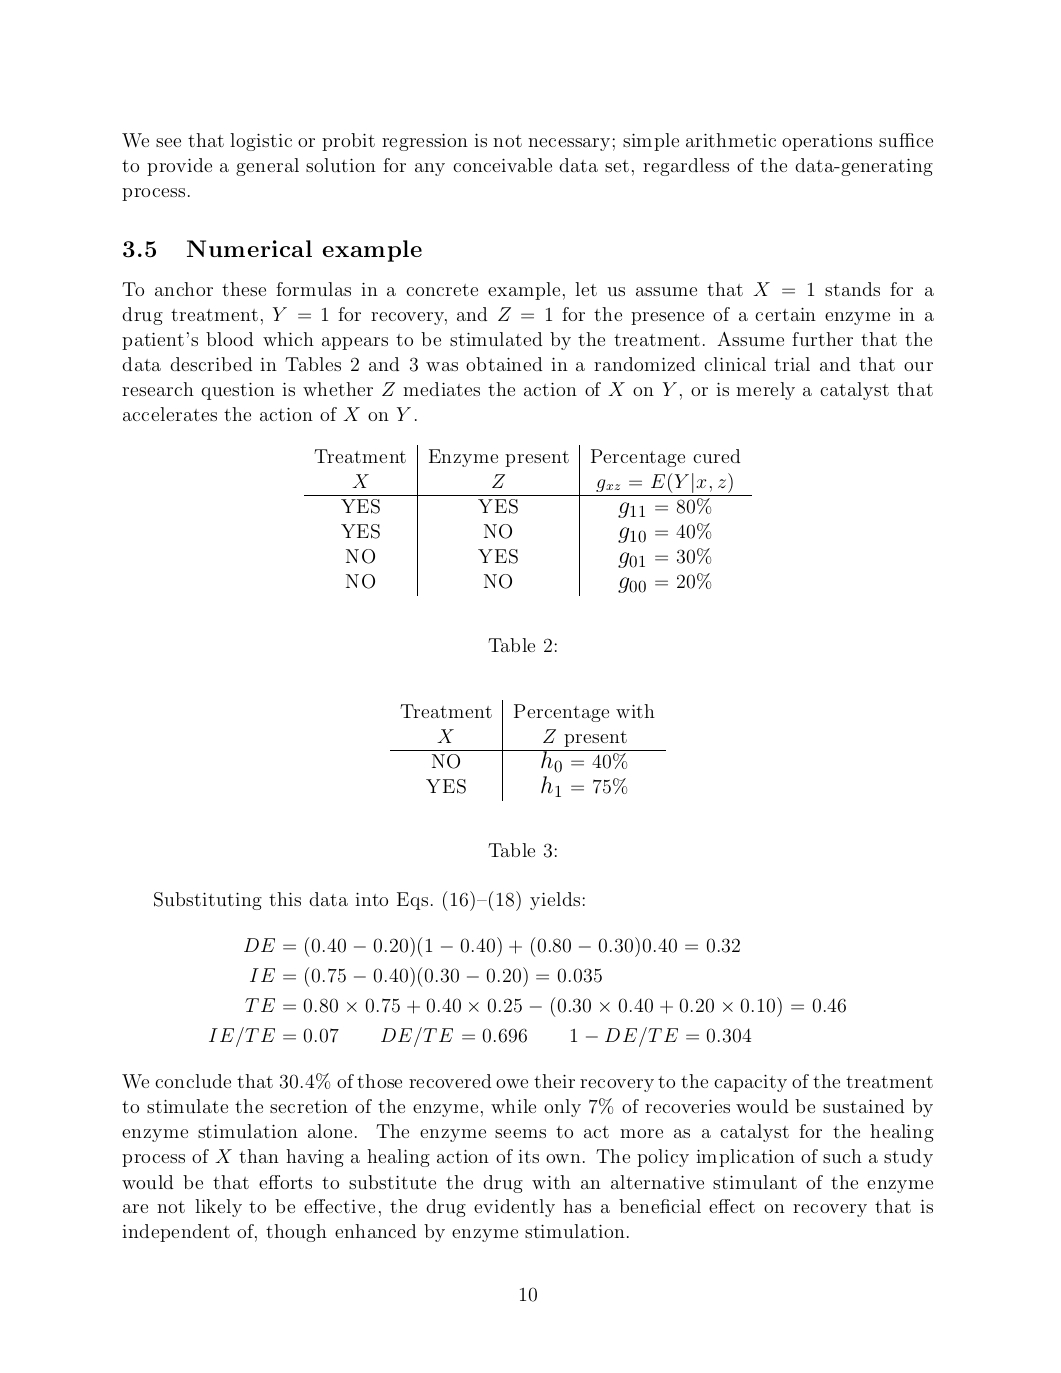Table: (304, 444, 751, 596), (390, 699, 665, 801)
formula: (245, 996, 845, 1017), (208, 1025, 751, 1046), (244, 936, 739, 957), (249, 966, 601, 987)
